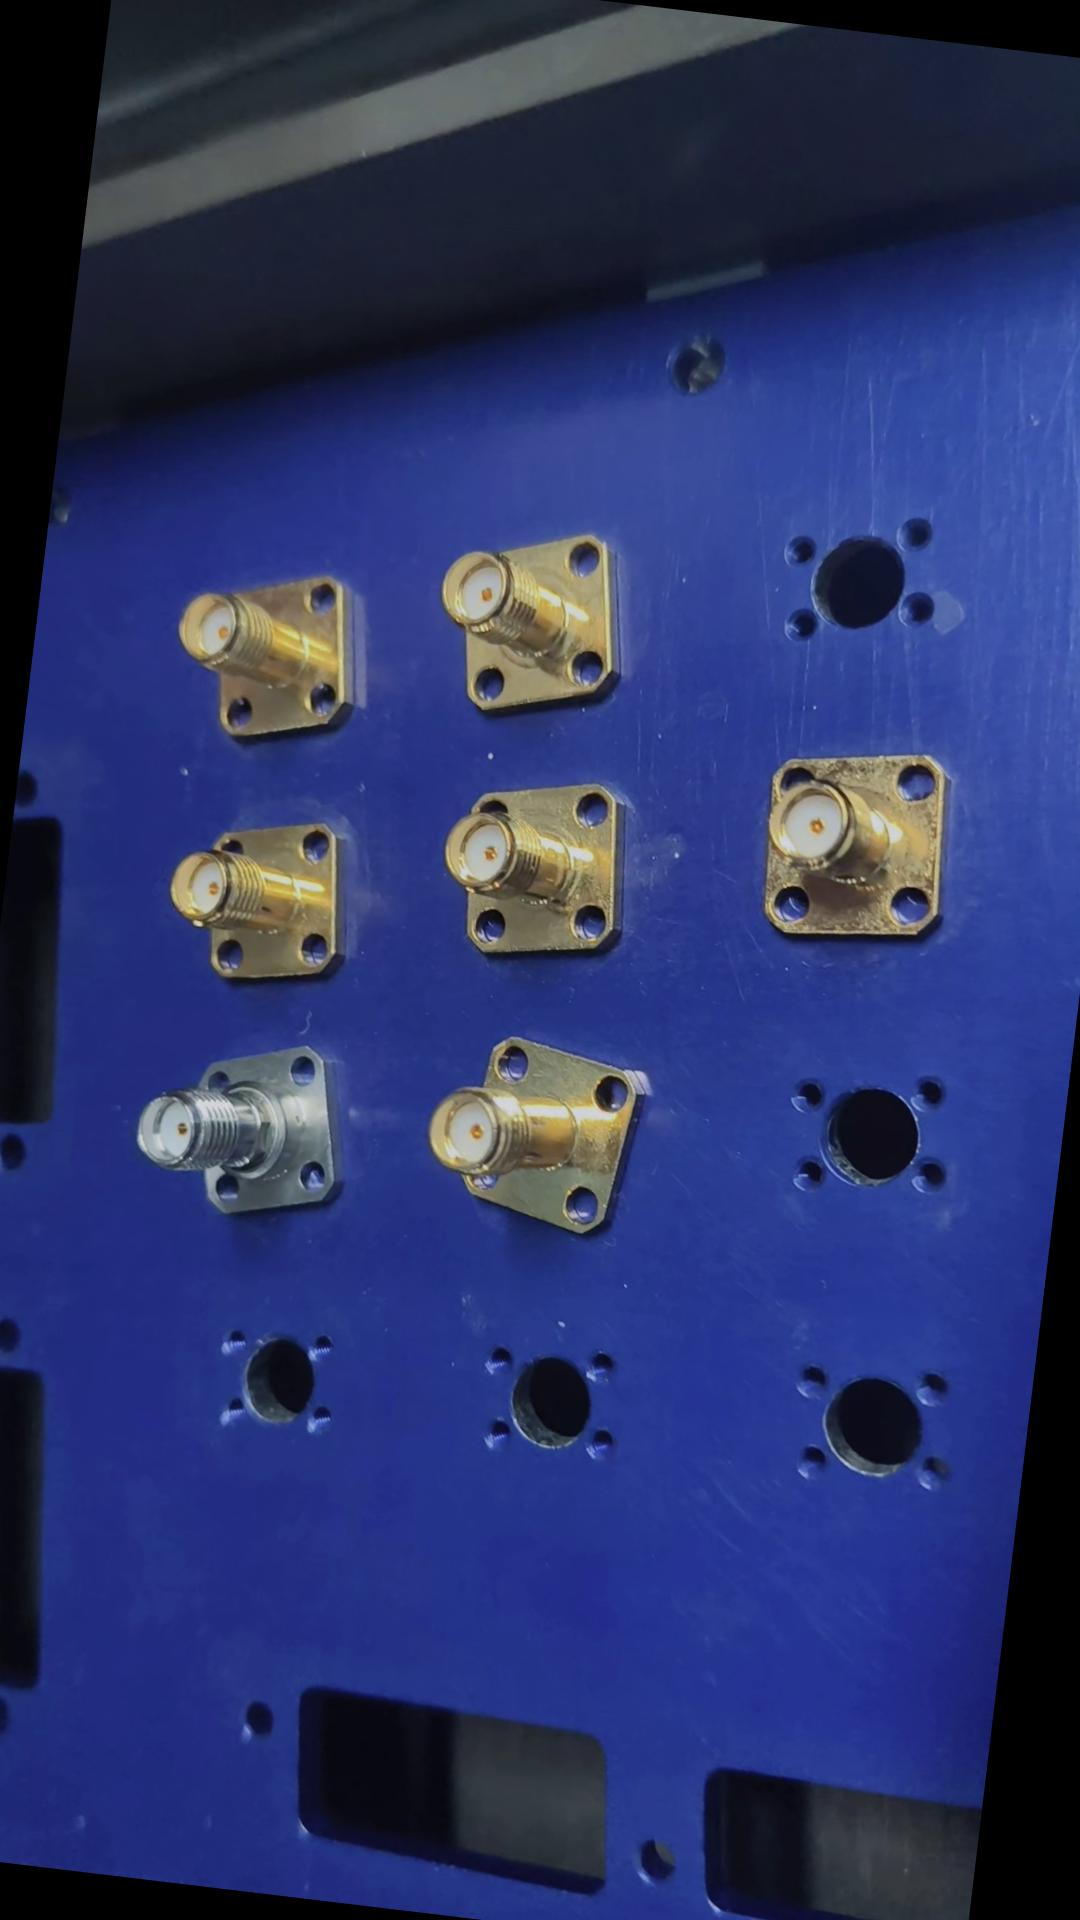SMA: (415, 1022, 659, 1249), (433, 514, 647, 732), (754, 735, 968, 952), (433, 764, 647, 972), (131, 1029, 360, 1222), (169, 560, 376, 758), (164, 808, 367, 992)
